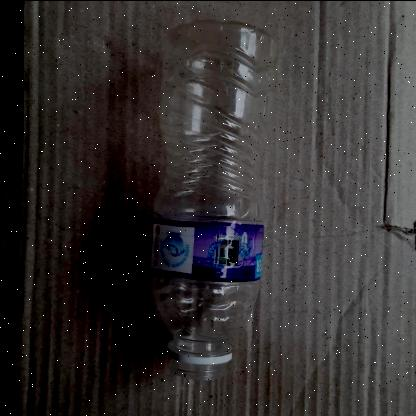Plastic Bottle: (147, 19, 273, 379)
